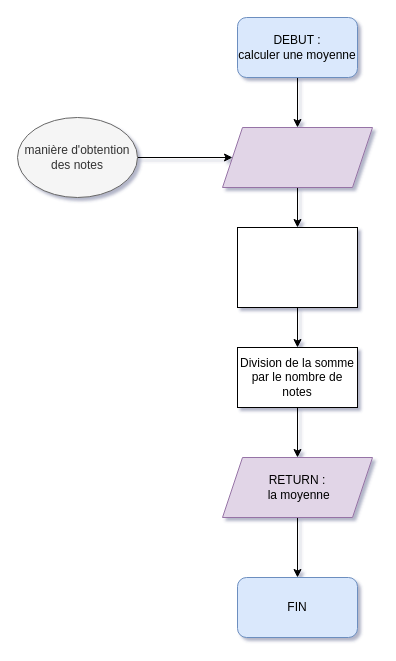
This 396x661 diagram has some shape labels left out. Each missing label, with the centre of its shape:
"addition de toutes les notes" belongs at (x=297, y=267).
"obtention des notes." belongs at (x=297, y=157).
